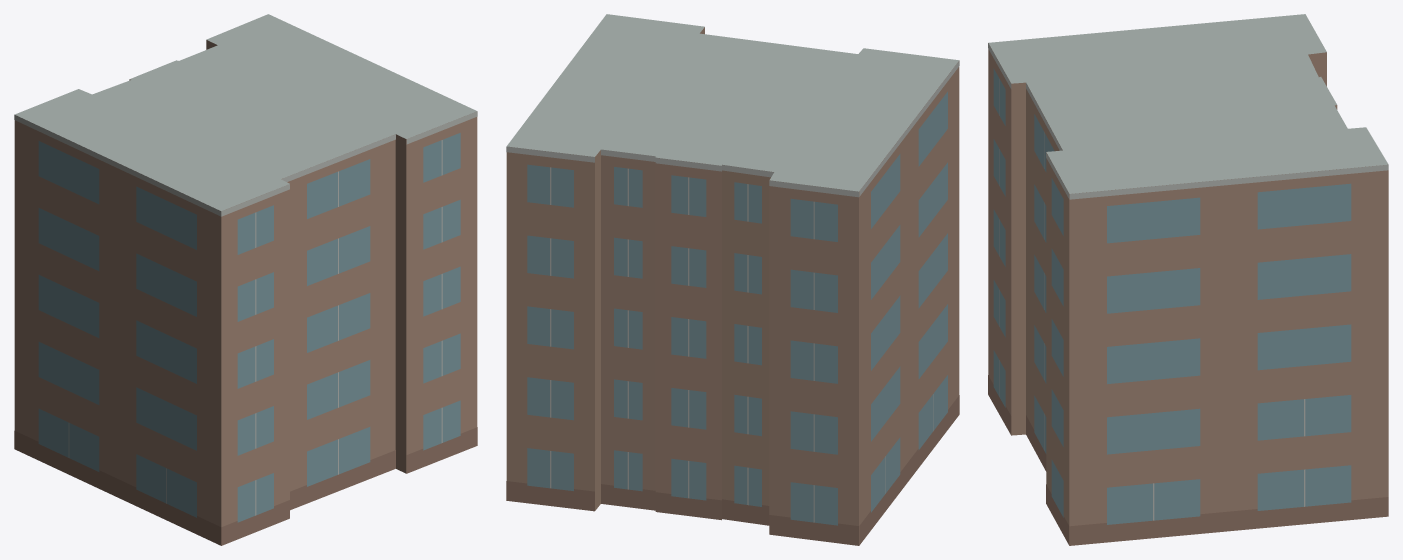
Rendered from survey-upis-32699309.glb.
The picture shows the model from 3 angles, left to right: view 1: azimuth 30°, elevation 25°; view 2: azimuth 150°, elevation 25°; view 3: azimuth 270°, elevation 25°; orthographic projection. The views are drawn at different scales.
Parts seen in each view (by area): view 1: survey-upis-32699309.tmp; view 2: survey-upis-32699309.tmp; view 3: survey-upis-32699309.tmp.
Part boxes in pixels (<box>): survey-upis-32699309.tmp: <box>14,14,477,545</box>; survey-upis-32699309.tmp: <box>506,14,959,545</box>; survey-upis-32699309.tmp: <box>988,14,1388,545</box>.
Bounding box in the file's own units: 16.52 × 15.05 × 15.53.
